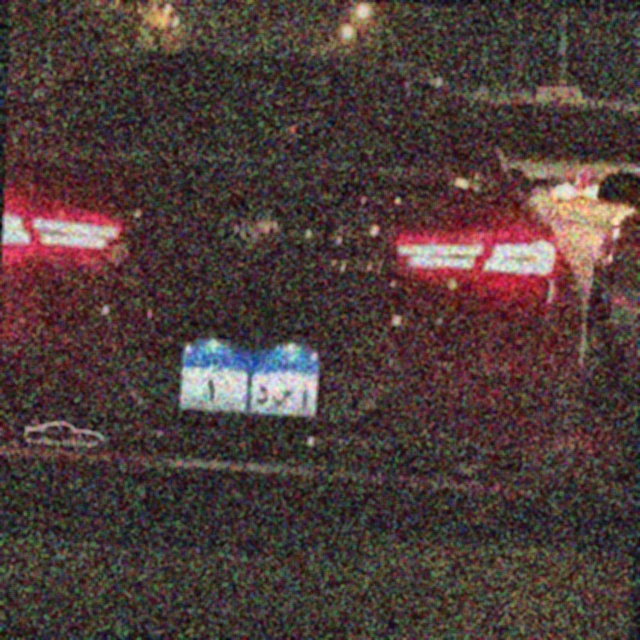License Plate: (174, 338, 323, 419)
